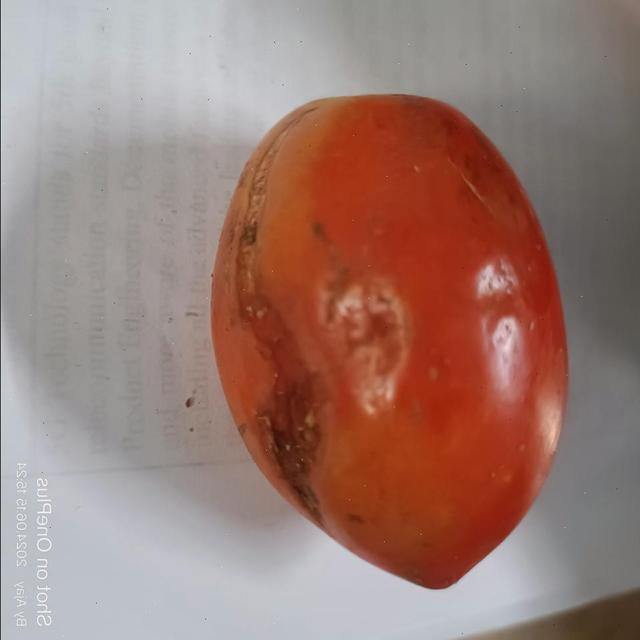Cracking Fruit: (60, 131, 279, 470)
